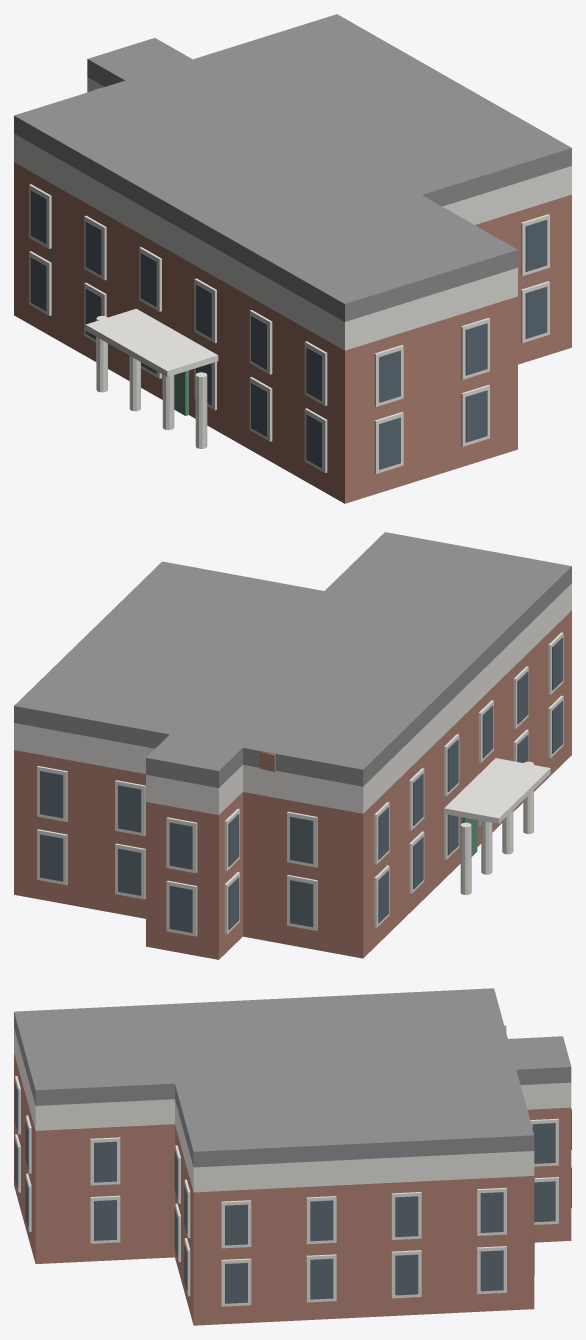
Rendered from s08_gis_247986_820733_detail.glb.
3 views of the same model, one above another, from view 1: azimuth 30°, elevation 25°; view 2: azimuth 150°, elevation 25°; view 3: azimuth 270°, elevation 25° (orthographic). The views are drawn at different scales.
Parts seen in each view (by area): view 1: roofcap, mass, parapet, portroof, win_3_0.75_4.8, win_3_0.75_2.0, win_5_0.75_2.0, win_5_0.75_4.8, win_5_0.25_2.0, win_5_0.25_4.8, portcol_0.65, win_6_0.25_4.8 (+18 smaller); view 2: roofcap, mass, parapet, portroof, win_9_0.50_4.8, win_1_0.25_2.0, win_1_0.25_4.8, win_1_0.75_2.0, win_1_0.75_4.8, win_7_0.50_2.0, win_7_0.50_4.8, win_9_0.50_2.0 (+14 smaller); view 3: roofcap, mass, parapet, win_2_0.38_2.0, win_2_0.38_4.8, win_2_0.88_2.0, win_2_0.62_2.0, win_2_0.62_4.8, win_2_0.88_4.8, win_2_0.12_2.0, win_2_0.12_4.8, win_4_0.50_4.8 (+13 smaller).
Boxes of the visible parts, x1,y1,x2,y2 form: roofcap: [14, 14, 571, 321]; mass: [14, 162, 571, 503]; parapet: [14, 77, 571, 350]; portroof: [85, 308, 218, 376]; win_3_0.75_4.8: [525, 219, 547, 271]; win_3_0.75_2.0: [525, 286, 547, 338]; win_5_0.75_2.0: [465, 390, 487, 442]; win_5_0.75_4.8: [465, 323, 487, 375]; win_5_0.25_2.0: [379, 417, 400, 469]; win_5_0.25_4.8: [379, 350, 400, 402]; portcol_0.65: [195, 372, 207, 448]; win_6_0.25_4.8: [85, 221, 102, 275]; roofcap: [14, 532, 571, 787]; mass: [14, 610, 571, 959]; parapet: [14, 583, 571, 814]; portroof: [444, 758, 550, 823]; win_9_0.50_4.8: [169, 822, 192, 869]; win_1_0.25_2.0: [40, 834, 63, 881]; win_1_0.25_4.8: [40, 771, 63, 818]; win_1_0.75_2.0: [118, 848, 141, 895]; win_1_0.75_4.8: [118, 785, 141, 832]; win_7_0.50_2.0: [290, 880, 313, 927]; win_7_0.50_4.8: [290, 816, 313, 863]; win_9_0.50_2.0: [169, 885, 192, 932]; roofcap: [14, 988, 571, 1167]; mass: [14, 1053, 571, 1325]; parapet: [14, 1028, 571, 1192]; win_2_0.38_2.0: [310, 1258, 333, 1299]; win_2_0.38_4.8: [310, 1200, 333, 1241]; win_2_0.88_2.0: [480, 1250, 503, 1291]; win_2_0.62_2.0: [395, 1254, 418, 1295]; win_2_0.62_4.8: [395, 1196, 418, 1237]; win_2_0.88_4.8: [480, 1192, 503, 1232]; win_2_0.12_2.0: [225, 1262, 247, 1303]; win_2_0.12_4.8: [225, 1204, 247, 1245]; win_4_0.50_4.8: [94, 1141, 116, 1182].
Size of the model in its own units: 18.43 by 8.35 by 24.29.
